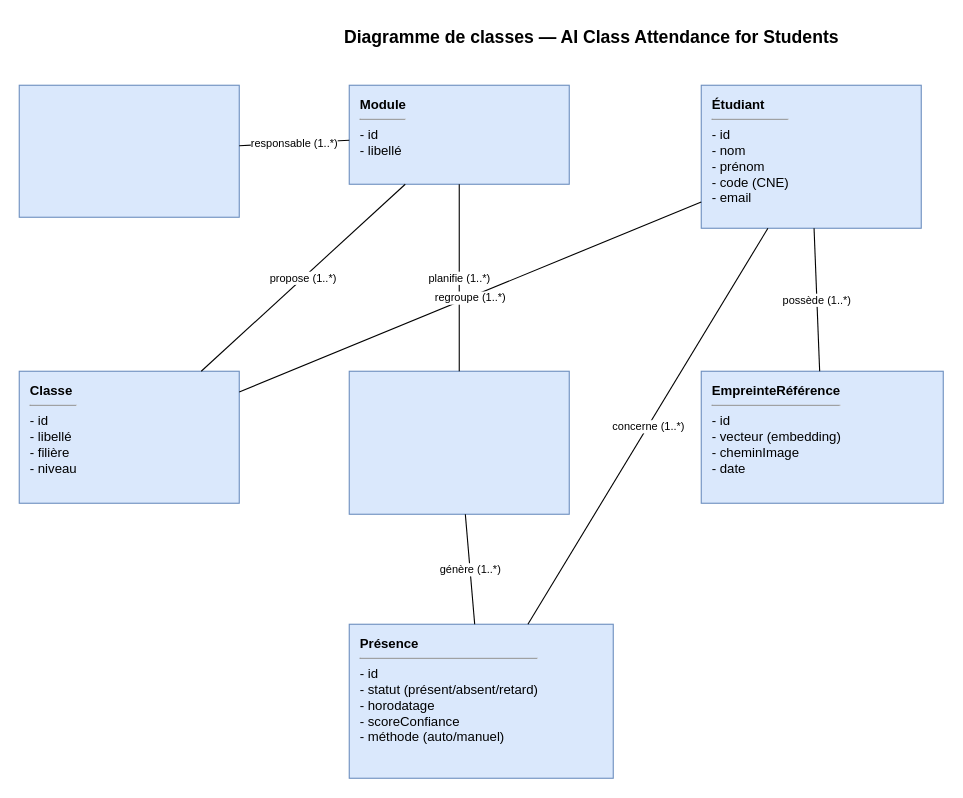
The diagram is 963 pixels wide and 798 high, and some of its shapes have lost their labels. Each missing label, with the box of its shape:
Enseignant - id - nom - email - motDePasse: (18, 84, 239, 217)
Séance - id - date - heureDébut - heureFin - salle: (348, 370, 569, 514)
